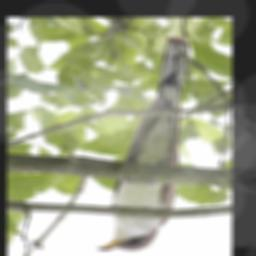Cuckoo: (95, 35, 189, 252)
